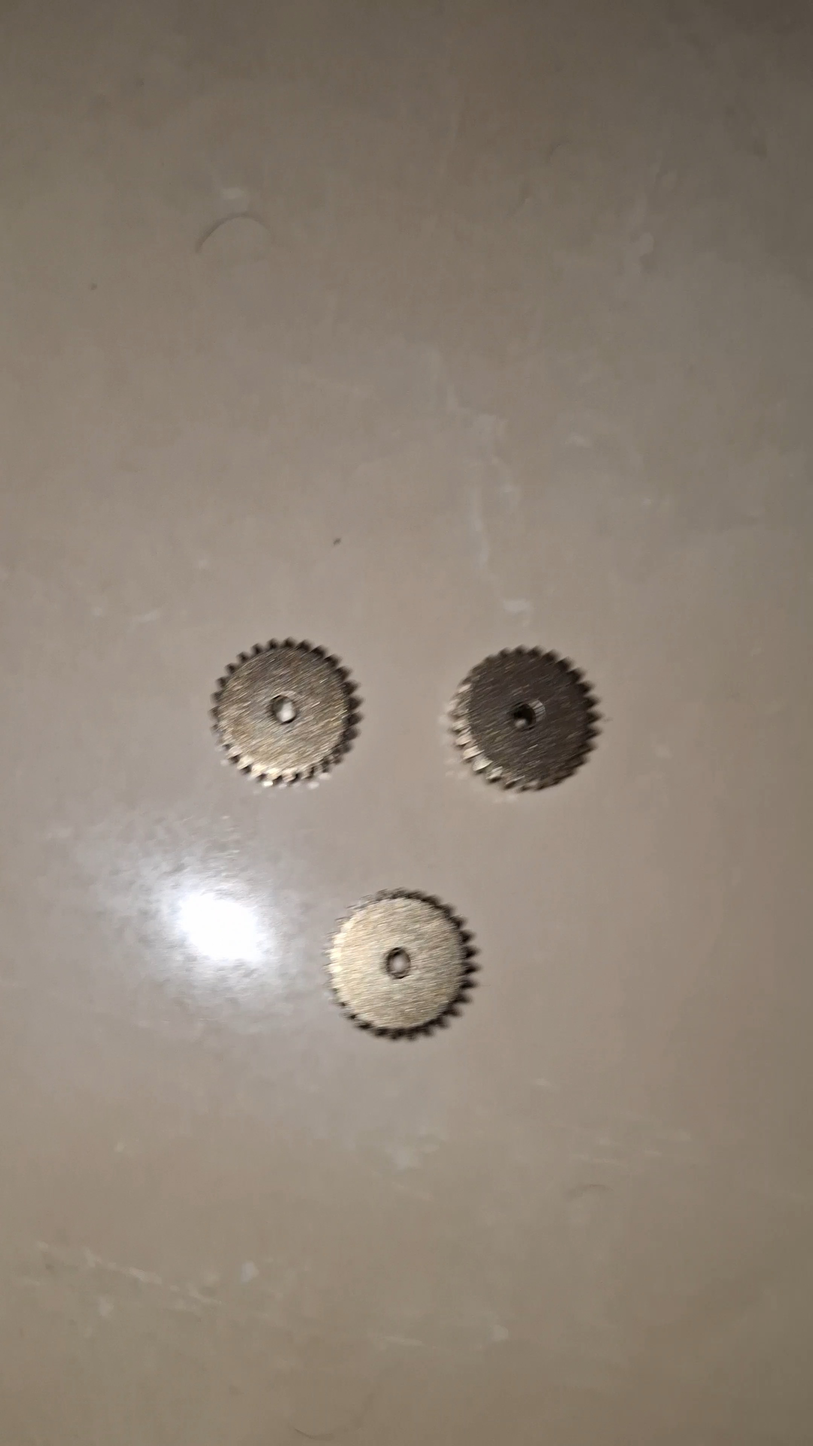spur gear: (328, 890, 474, 1037), (212, 639, 358, 784), (451, 647, 597, 790)
